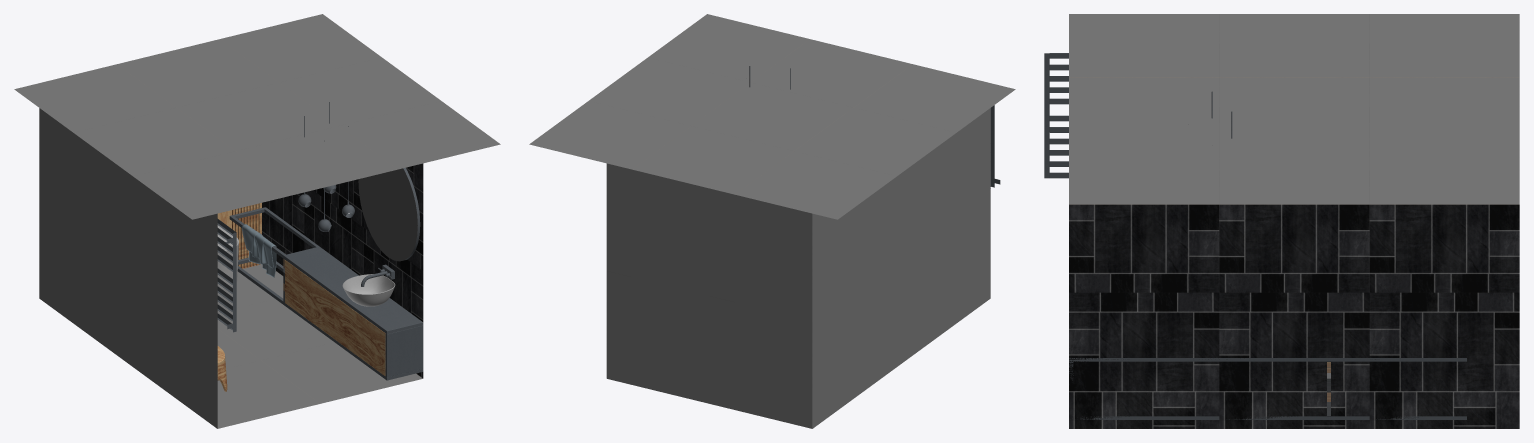
The model's file is master_bathroom.glb.
The picture shows the model from 3 angles, left to right: view 1: azimuth 30°, elevation 25°; view 2: azimuth 150°, elevation 25°; view 3: azimuth 270°, elevation 25°; orthographic projection. The views are drawn at different scales.
Visible parts, largest first — view 1: Cube.027, Cube.026, Cube.024, Cube.044, Cube.050, Cube.065, Cube.013, Cube.053, Cube.073, Cube.012, Cube.011, Cube.014 (+22 smaller); view 2: Cube.033, Cube.029, Cube.031, Cube.030, Cube.027, Cube.026, Cube.024, Cube.065, Cube.044, Cube.050, Cube.013, Cube.053 (+7 smaller); view 3: Cube.018, Cube.032, Cube.016, Cube.037, Cube.041, Cube.015, Cube.050, Cube.053, Cube.073, Cube.011, Cube.012, Cube.013 (+6 smaller).
Boxes of the visible parts, x1,y1,x2,y2 form: Cube.027: (39, 191, 98, 341); Cube.026: (158, 278, 217, 428); Cube.024: (98, 234, 157, 384); Cube.044: (236, 126, 397, 194); Cube.050: (73, 107, 235, 175); Cube.065: (117, 39, 278, 107); Cube.013: (279, 57, 440, 125); Cube.053: (177, 82, 337, 150); Cube.073: (133, 151, 294, 219); Cube.012: (339, 101, 500, 169); Cube.011: (14, 64, 175, 132); Cube.014: (220, 14, 381, 82); Cube.033: (606, 163, 709, 295); Cube.029: (709, 296, 812, 428); Cube.031: (606, 271, 709, 403); Cube.030: (709, 188, 812, 320); Cube.027: (812, 278, 871, 428); Cube.026: (931, 191, 990, 341); Cube.024: (872, 234, 931, 384); Cube.065: (632, 126, 793, 194); Cube.044: (751, 39, 912, 107); Cube.050: (794, 107, 956, 175); Cube.013: (589, 57, 749, 125); Cube.053: (692, 82, 852, 150); Cube.018: (1369, 292, 1519, 428); Cube.032: (1069, 292, 1219, 428); Cube.016: (1219, 292, 1369, 428); Cube.037: (1219, 204, 1369, 292); Cube.041: (1369, 204, 1519, 292); Cube.015: (1069, 204, 1219, 292); Cube.050: (1219, 14, 1369, 77); Cube.053: (1219, 77, 1369, 140); Cube.073: (1069, 14, 1219, 77); Cube.011: (1369, 14, 1519, 77); Cube.012: (1069, 141, 1219, 204); Cube.013: (1219, 141, 1369, 204).
Size of the model in its own units: 600 by 440 by 633.
2 materials, 1 textured.
